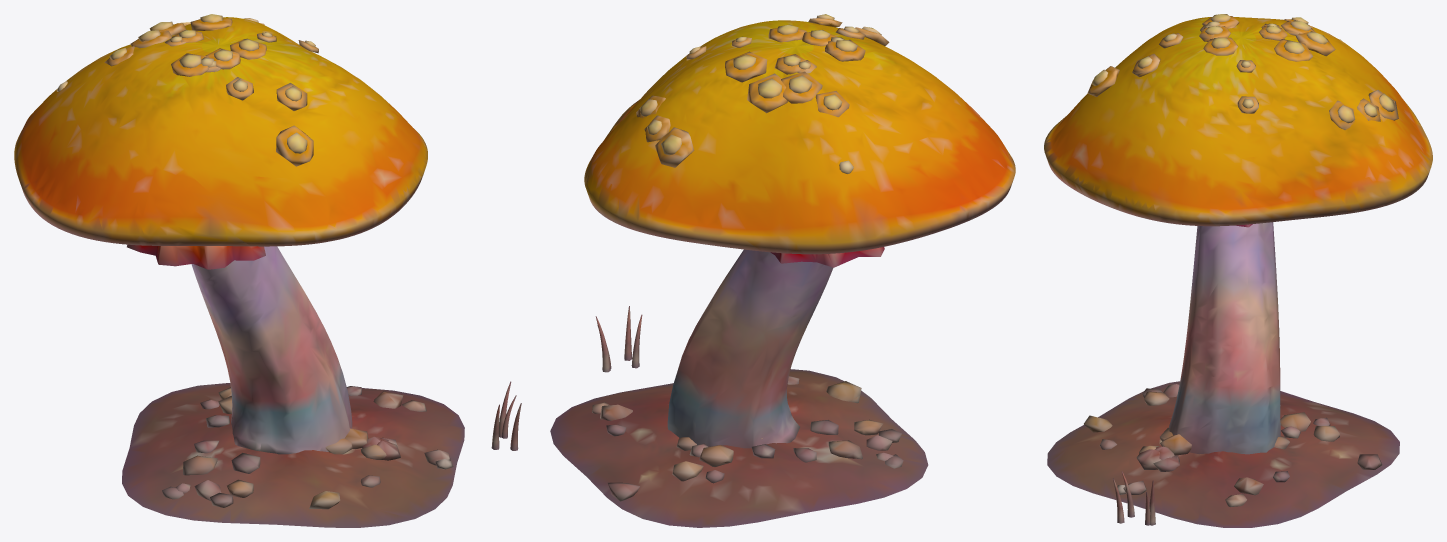
The model's file is mantar_kume_5.glb.
3 views of the same model, side by side, from view 1: azimuth 30°, elevation 25°; view 2: azimuth 150°, elevation 25°; view 3: azimuth 270°, elevation 25° (orthographic). The views are drawn at different scales.
Visible parts, largest first — view 1: mantar_kume_5_LOD0; view 2: mantar_kume_5_LOD0; view 3: mantar_kume_5_LOD0.
Part boxes in pixels (x1,y1,x2,y2): mantar_kume_5_LOD0: (14, 14, 521, 527); mantar_kume_5_LOD0: (550, 14, 1015, 527); mantar_kume_5_LOD0: (1044, 14, 1432, 527).
Size of what is drawn, in the model's own units: 10.62 by 10.27 by 8.9.
